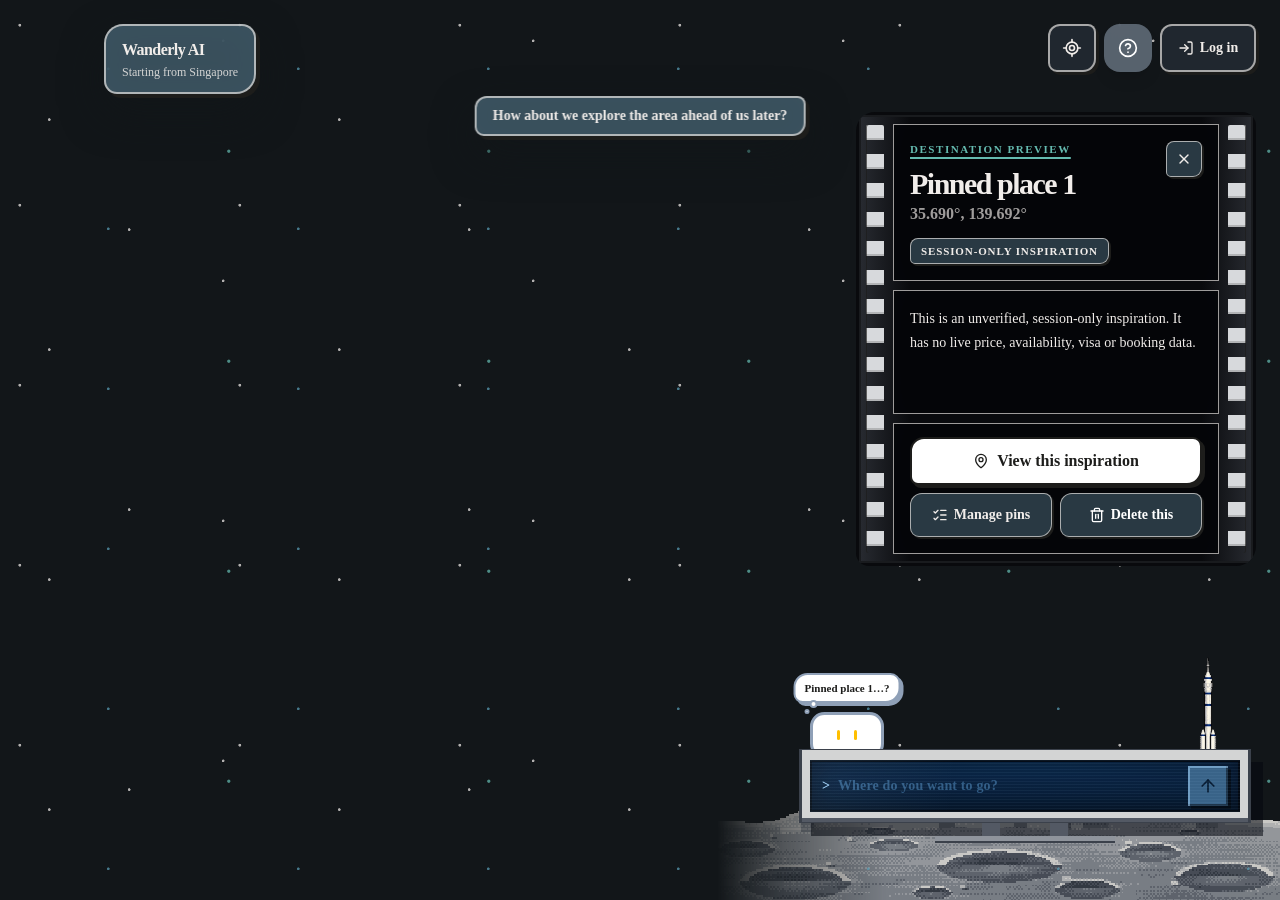
ExploreMapPage private inspirations › opens chat without persisting or sending when 'View this inspiration' is clicked
Expected: the number of elements with class "wanderly-destination-film__frame" is 3, [893,124,1219,281]; [893,290,1219,414]; [893,423,1219,554]
What coordinates should you click on to do the following:
click the button "View this inspiration"
I would click on:
 (1056, 461)
Its box is [910,437,1202,485].
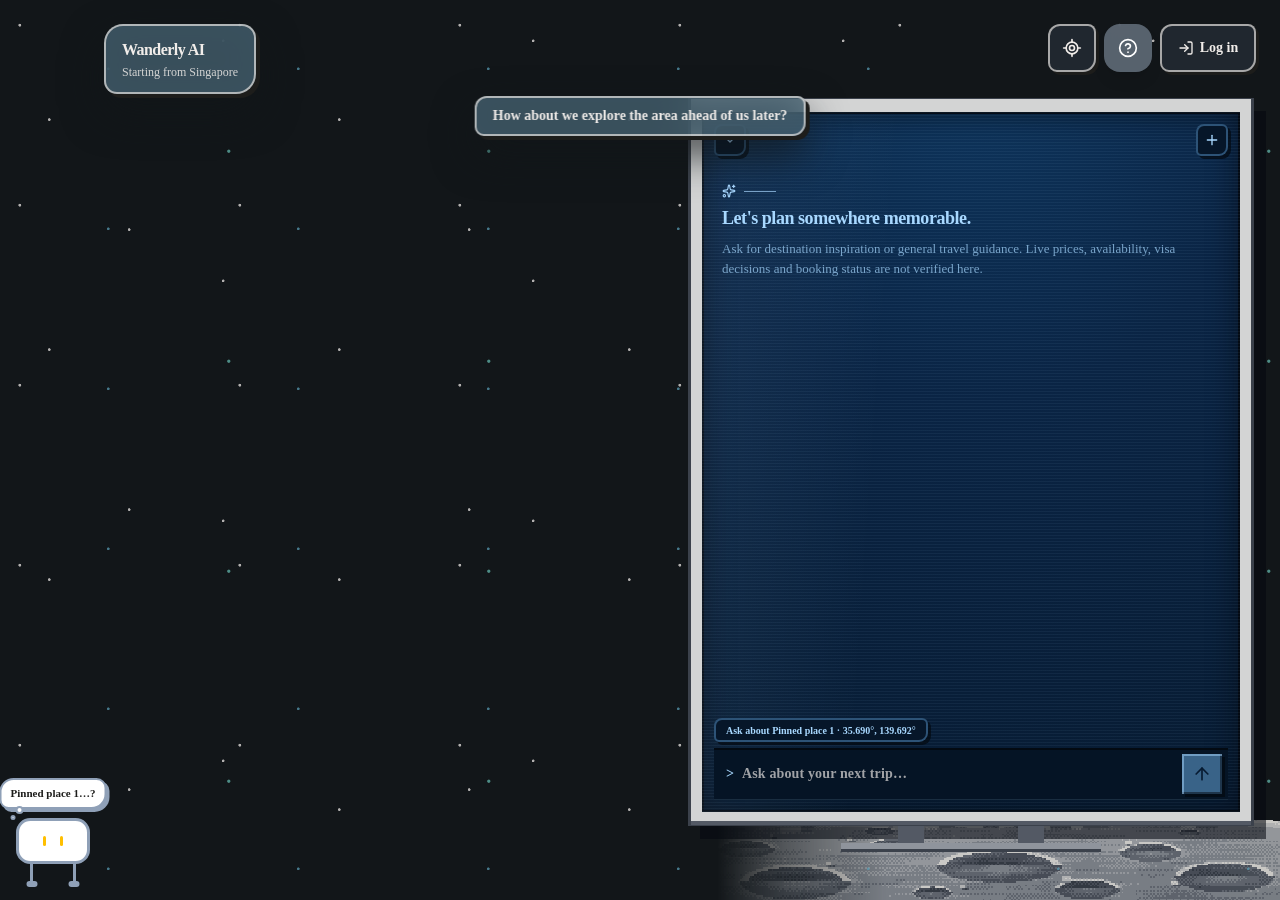
Expected: the dialog named "Wanderly Agent conversation" is shown, [702,112,1240,812]
Expected: the button "Ask about Pinned place 1 · 35.690°, 139.692°" is shown, [714,718,928,742]
